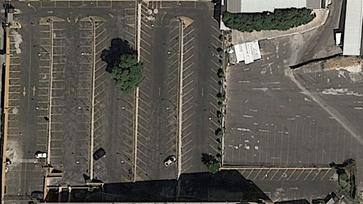parkingspot: (135, 21, 153, 183), (74, 21, 93, 166), (92, 20, 108, 179), (164, 24, 180, 180), (49, 21, 66, 166), (180, 20, 195, 175), (34, 24, 51, 159), (208, 25, 223, 164), (6, 27, 22, 143), (211, 169, 338, 182), (120, 98, 134, 186), (41, 0, 112, 8), (4, 170, 21, 194), (28, 171, 45, 194), (160, 0, 196, 8), (124, 24, 136, 46), (242, 192, 271, 200), (124, 0, 136, 18)
